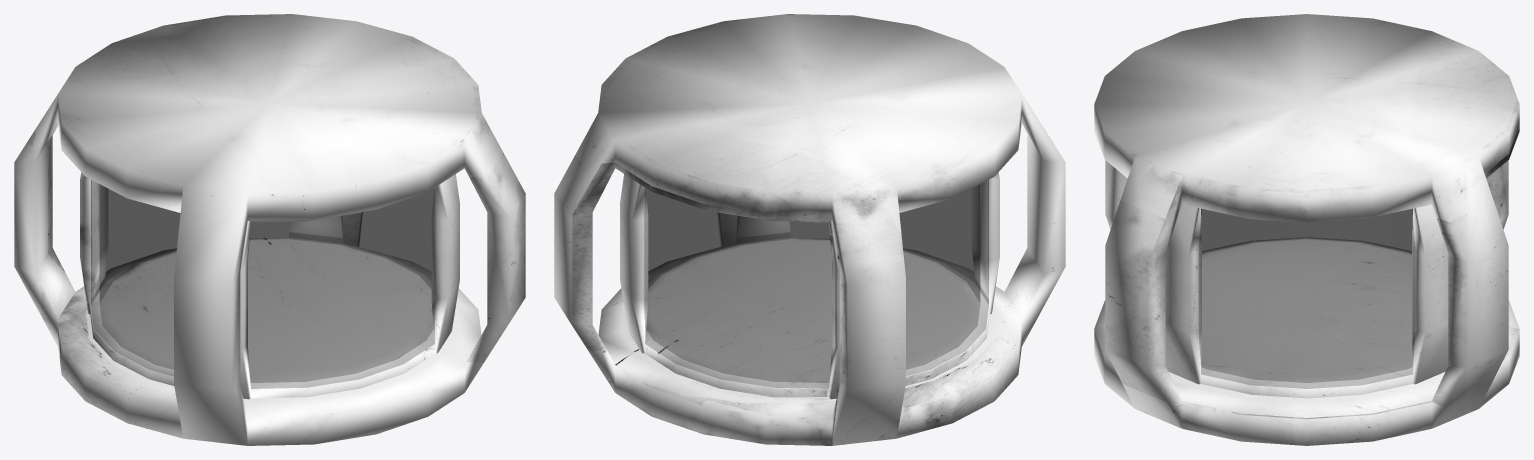
The model's file is jail_glass.fbx.
The picture shows the model from 3 angles, left to right: view 1: azimuth 30°, elevation 25°; view 2: azimuth 150°, elevation 25°; view 3: azimuth 270°, elevation 25°; orthographic projection.
Visible parts, largest first — view 1: Frame, pPipe1, Frame1; view 2: Frame, pPipe1, Frame1; view 3: Frame, Frame1, pPipe1.
Boxes of the visible parts, left/top/right/bottom form: Frame: left=14, top=14, right=525, bottom=445; pPipe1: left=91, top=180, right=435, bottom=388; Frame1: left=80, top=172, right=459, bottom=399; Frame: left=554, top=14, right=1065, bottom=445; pPipe1: left=644, top=180, right=988, bottom=388; Frame1: left=620, top=172, right=999, bottom=399; Frame: left=1094, top=14, right=1519, bottom=445; Frame1: left=1165, top=204, right=1448, bottom=398; pPipe1: left=1199, top=208, right=1414, bottom=388.
Size of the model in its own units: 500 by 327 by 500.
